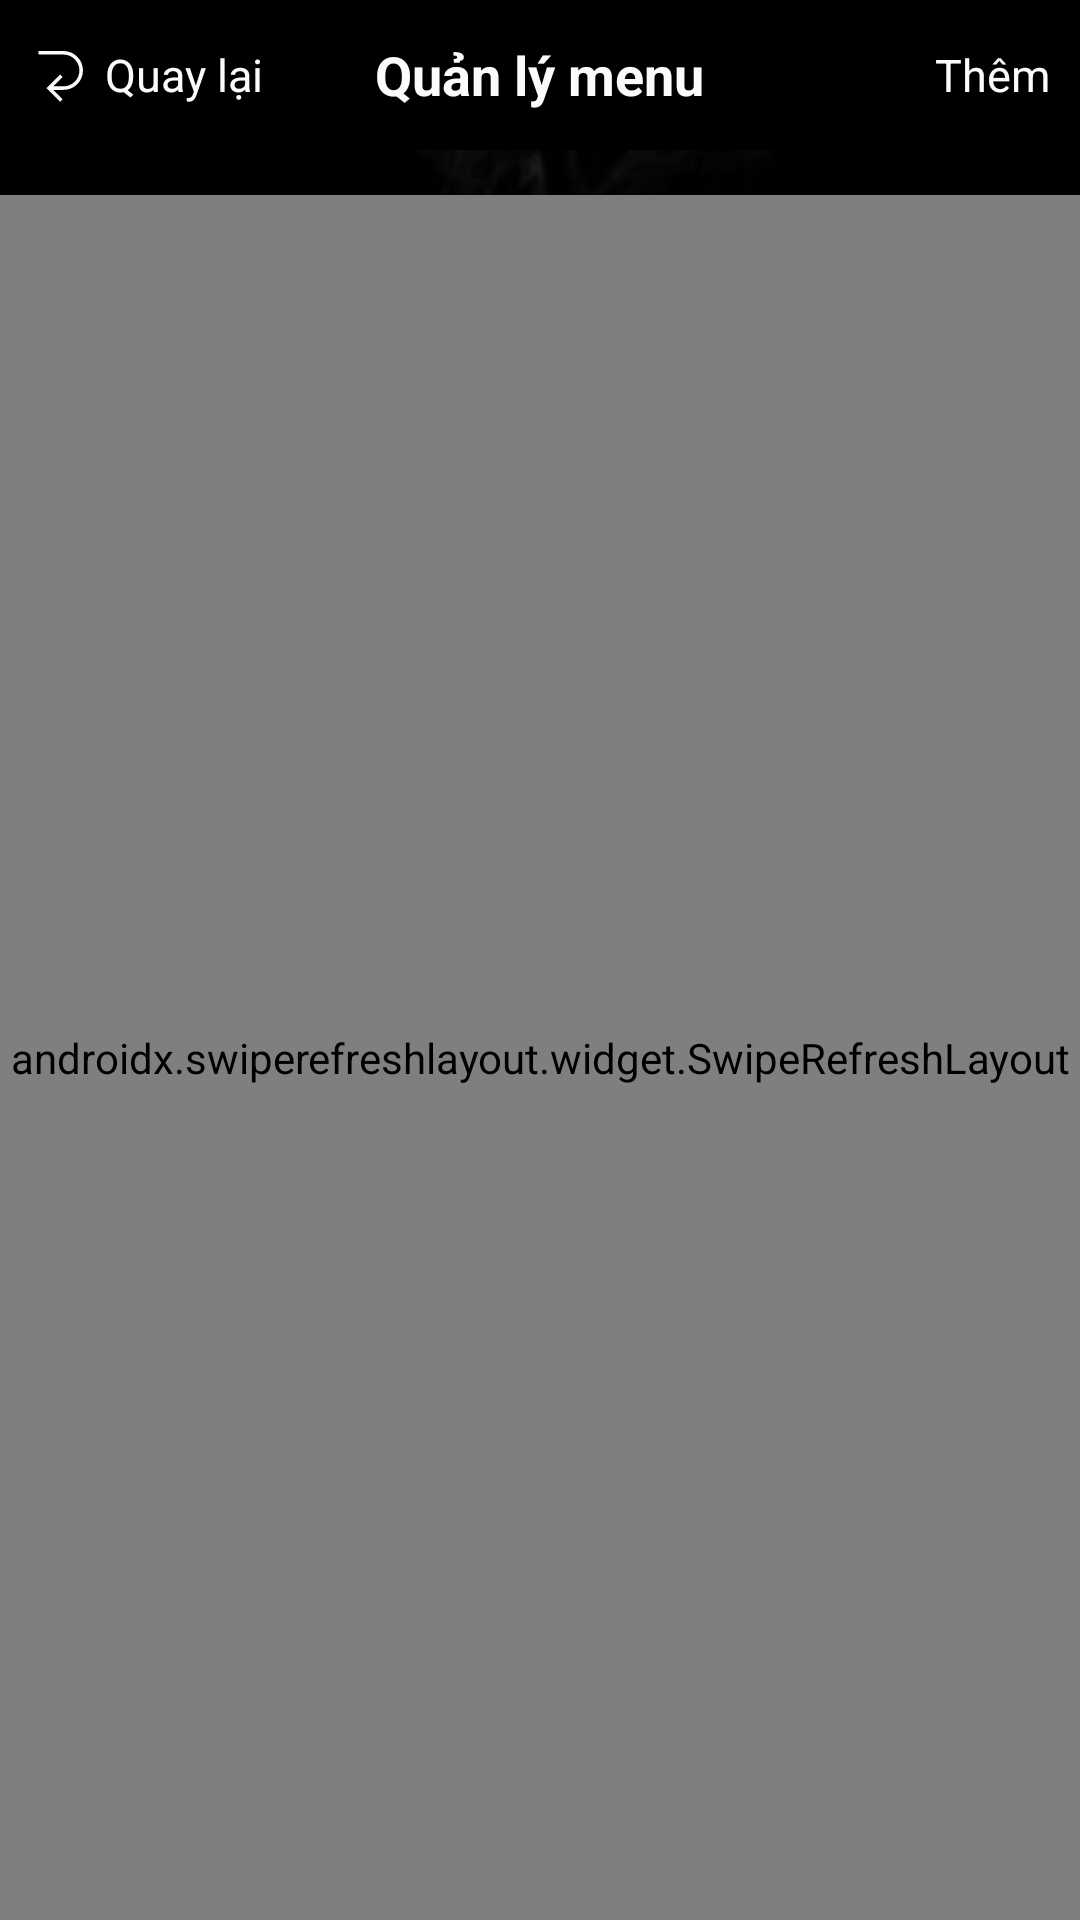

Locate icon controls on the screen. Image size 1080w x 1920h, boxes as (x1, y1, x2, y2).
back left: (38, 51, 83, 102)
